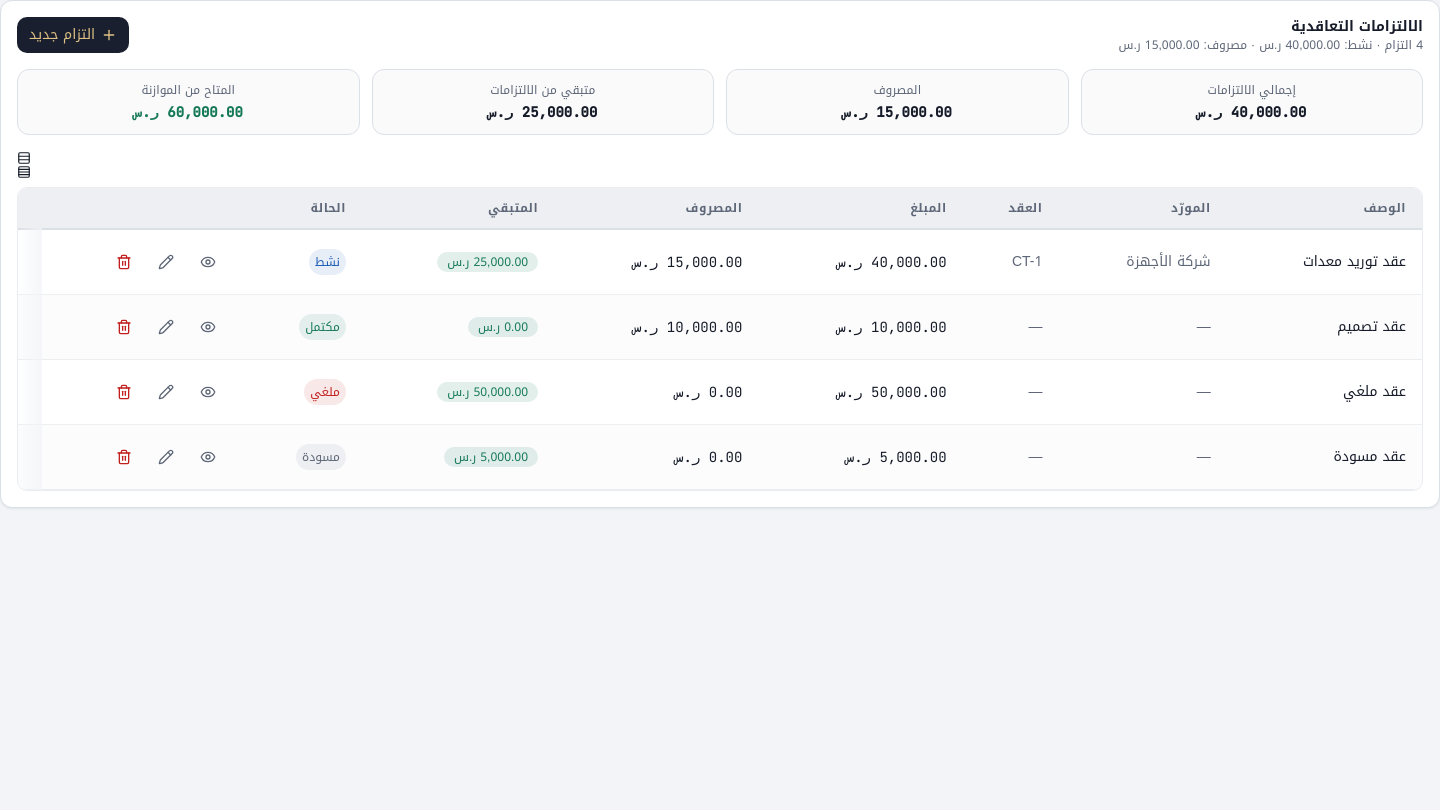
Test: editing a commitment › starts from the row and saves the cleared fields as cleared
Later steps or results of the test are not shown.
Click the button named "تعديل" in the row of "عقد توريد معدات": (166, 262) [146,242,186,282]
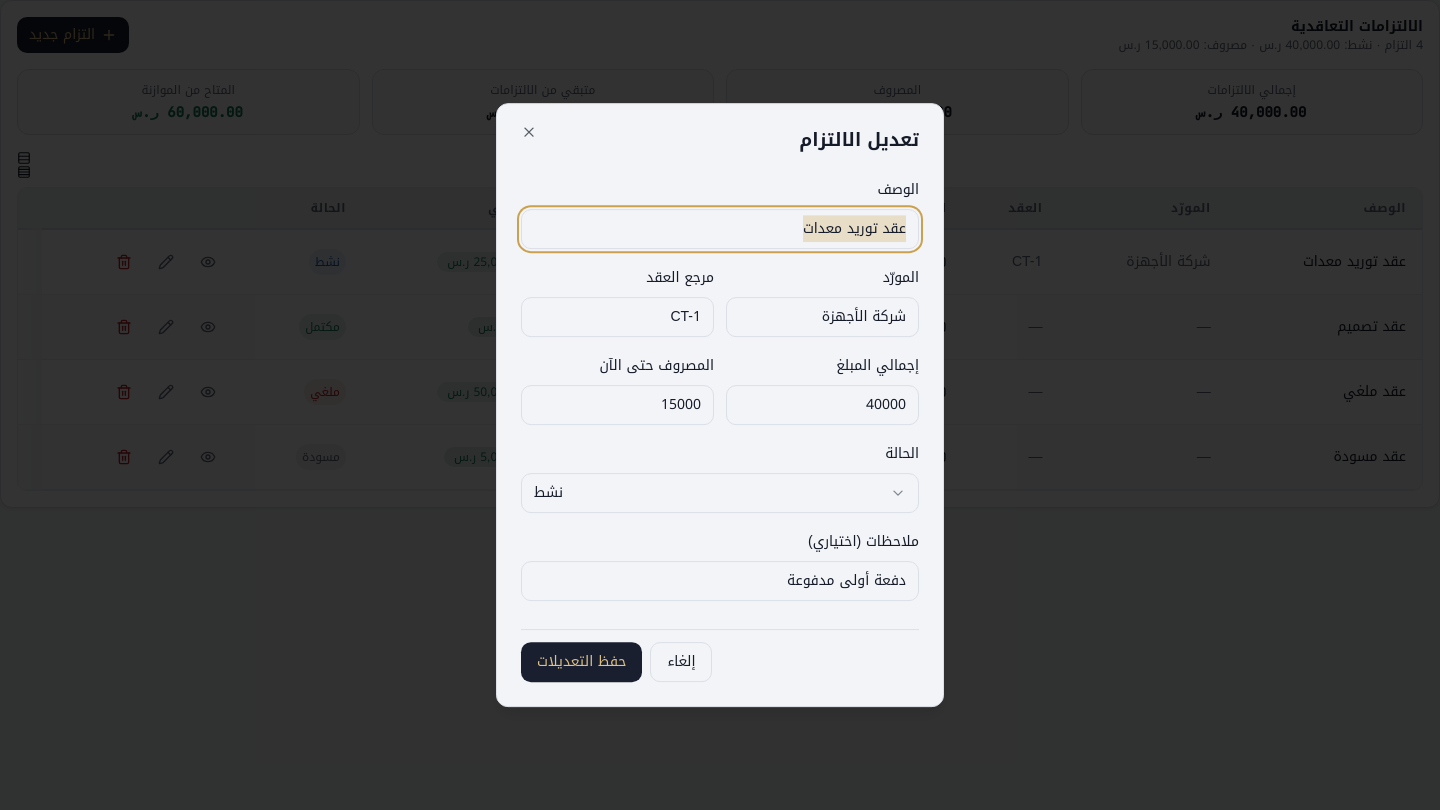
Expected: the field with placeholder "مثال: عقد توريد معدات" holds "عقد توريد معدات", [521,209,919,249]
Expected: the number field labelled "إجمالي المبلغ" holds "40000", [726,385,919,425]
